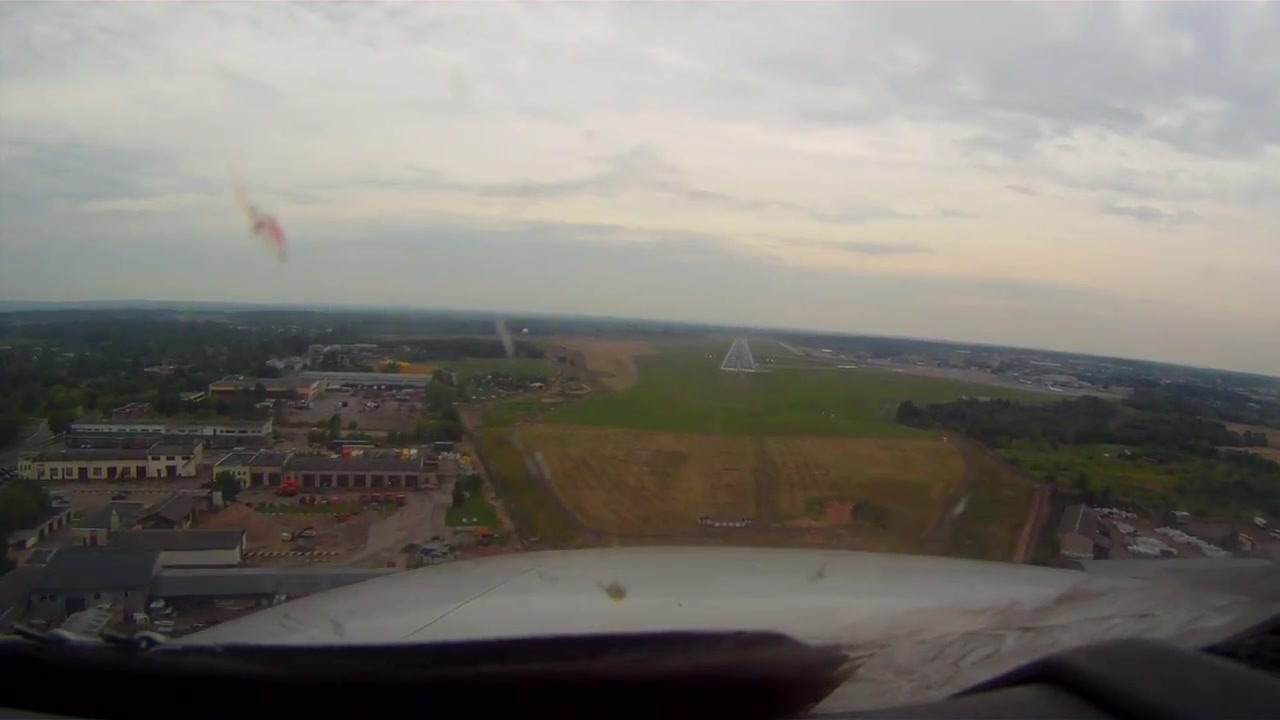runway: (722, 338, 758, 372)
